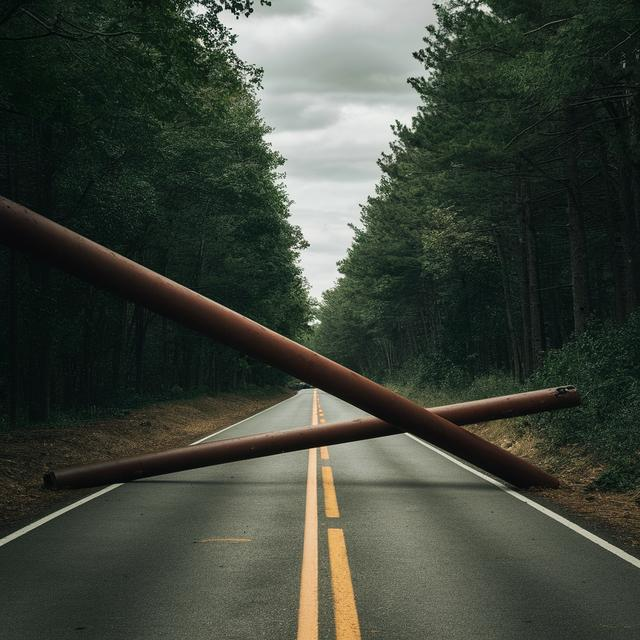Inclined Pole: (0, 189, 568, 487), (48, 384, 580, 489)
